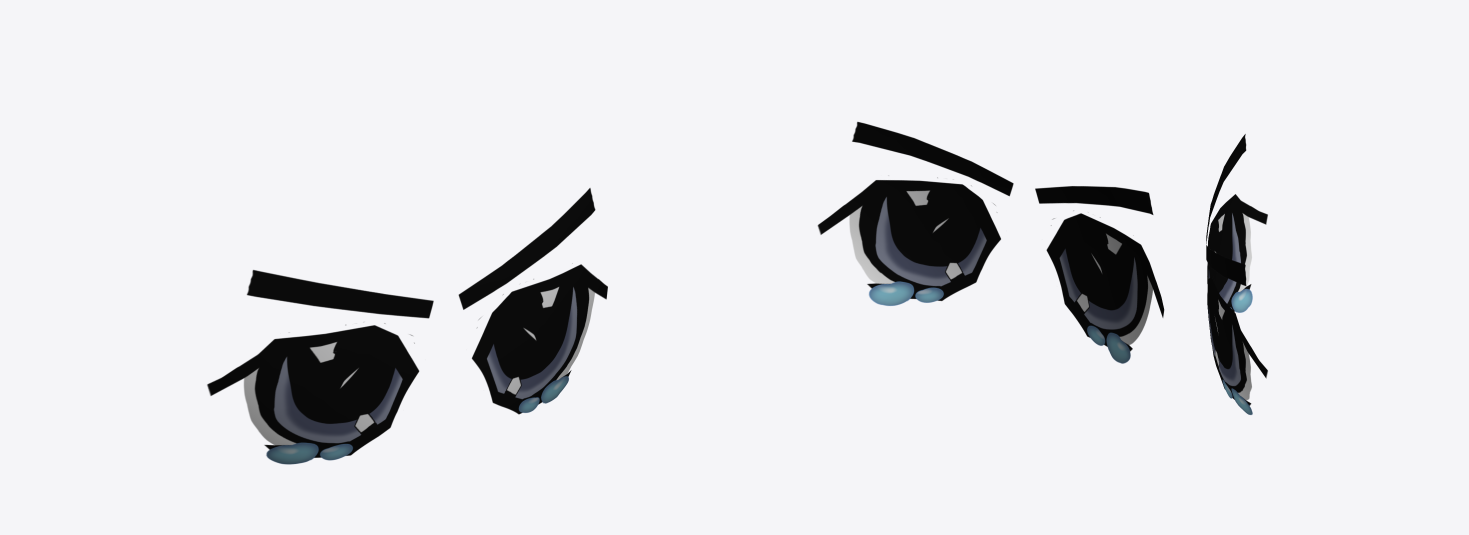
Rendered from Teary_Blue.gltf.
3 views of the same model, side by side, from view 1: azimuth 30°, elevation 25°; view 2: azimuth 150°, elevation 25°; view 3: azimuth 270°, elevation 25° (orthographic). The views are drawn at different scales.
Visible parts, largest first — view 1: Teary_Blue; view 2: Teary_Blue; view 3: Teary_Blue.
Boxes of the visible parts, x1,y1,x2,y2 form: Teary_Blue: (207,188,607,464); Teary_Blue: (817,122,1164,363); Teary_Blue: (1206,134,1267,414).
Bounding box in the file's own units: 0.8827 × 0.6239 × 0.4009.
Materials: 1 (1 with a texture image).
